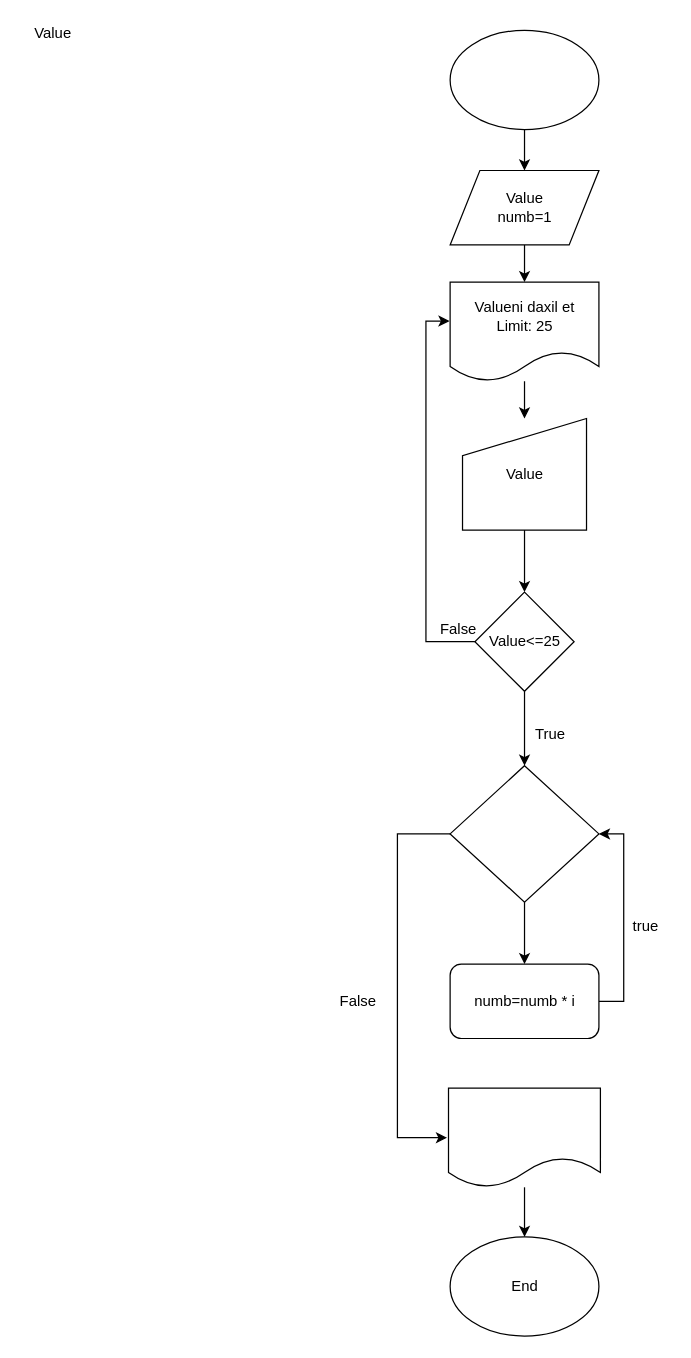
This 691x1358 diagram has some shape labels left out. The centre of each missing label's shape, as x and y in pixels:
"i=1,i<=value,i++" goes at (x=524, y=833).
"Start" goes at (x=524, y=79).
"value factoriali =numb" goes at (x=523, y=1137).
